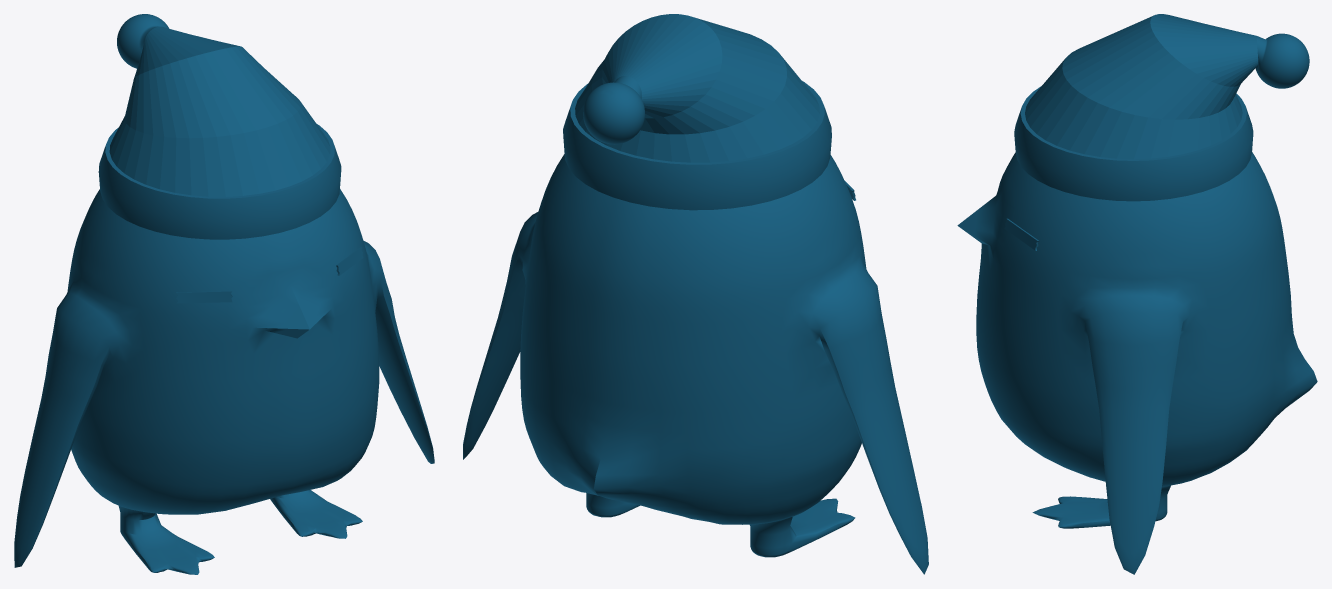
File: penguin_blue_idle_01f.fbx
3 renders of one model, left to right at view 1: azimuth 30°, elevation 25°; view 2: azimuth 150°, elevation 25°; view 3: azimuth 270°, elevation 25°, orthographic. The views are drawn at different scales.
Visible parts, largest first — view 1: ppp_1, bousi, ai; view 2: ppp_1, bousi; view 3: ppp_1, bousi.
Boxes of the visible parts, x1,y1,x2,y2 form: ppp_1: [14, 189, 434, 574]; bousi: [98, 14, 341, 239]; ai: [176, 247, 363, 303]; ppp_1: [463, 154, 928, 574]; bousi: [563, 14, 831, 210]; ppp_1: [957, 152, 1317, 574]; bousi: [1014, 14, 1309, 201].
Size of the model in its own units: 18.85 by 20.11 by 14.35.
1 material, 1 textured.
